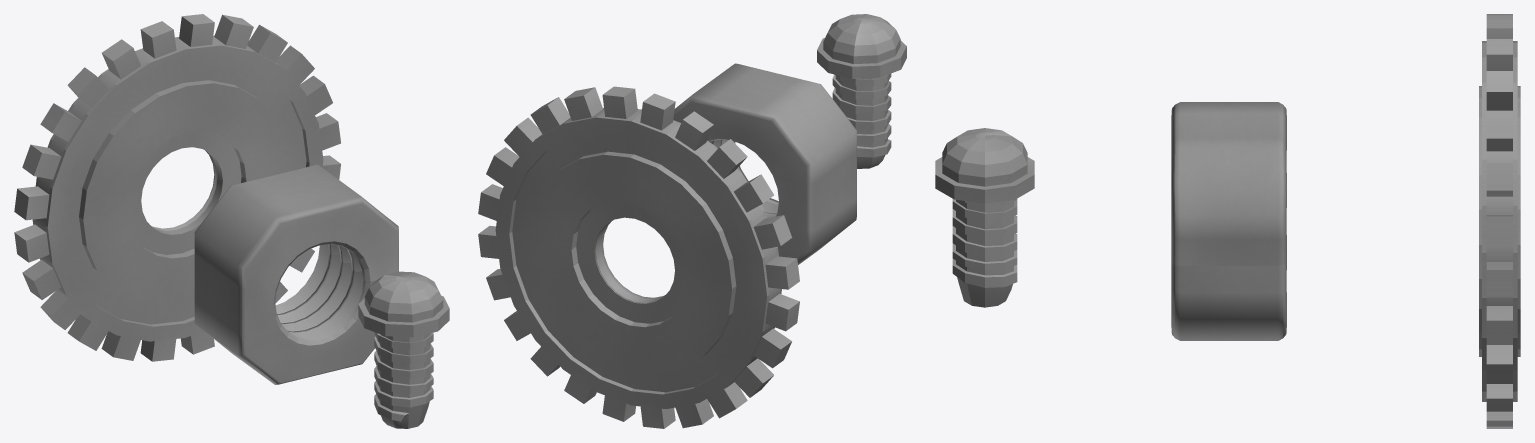
File: Parts.fbx
The picture shows the model from 3 angles, left to right: view 1: azimuth 30°, elevation 25°; view 2: azimuth 150°, elevation 25°; view 3: azimuth 270°, elevation 25°; orthographic projection. The views are drawn at different scales.
Visible parts, largest first — view 1: pPipe2, pPipe1, pCylinder1; view 2: pPipe2, pPipe1, pCylinder1; view 3: pPipe1, pPipe2, pCylinder1.
Part boxes in pixels (bbox=[...]): pPipe2: bbox=[14, 14, 340, 361]; pPipe1: bbox=[194, 164, 398, 384]; pCylinder1: bbox=[358, 271, 449, 428]; pPipe2: bbox=[478, 86, 799, 428]; pPipe1: bbox=[673, 63, 856, 264]; pCylinder1: bbox=[817, 14, 906, 168]; pPipe1: bbox=[1171, 102, 1286, 340]; pPipe2: bbox=[1479, 14, 1520, 428]; pCylinder1: bbox=[935, 128, 1034, 307].
Size of the model in its own units: 3.45 by 3.45 by 4.87.
Materials: 1 (1 with a texture image).
